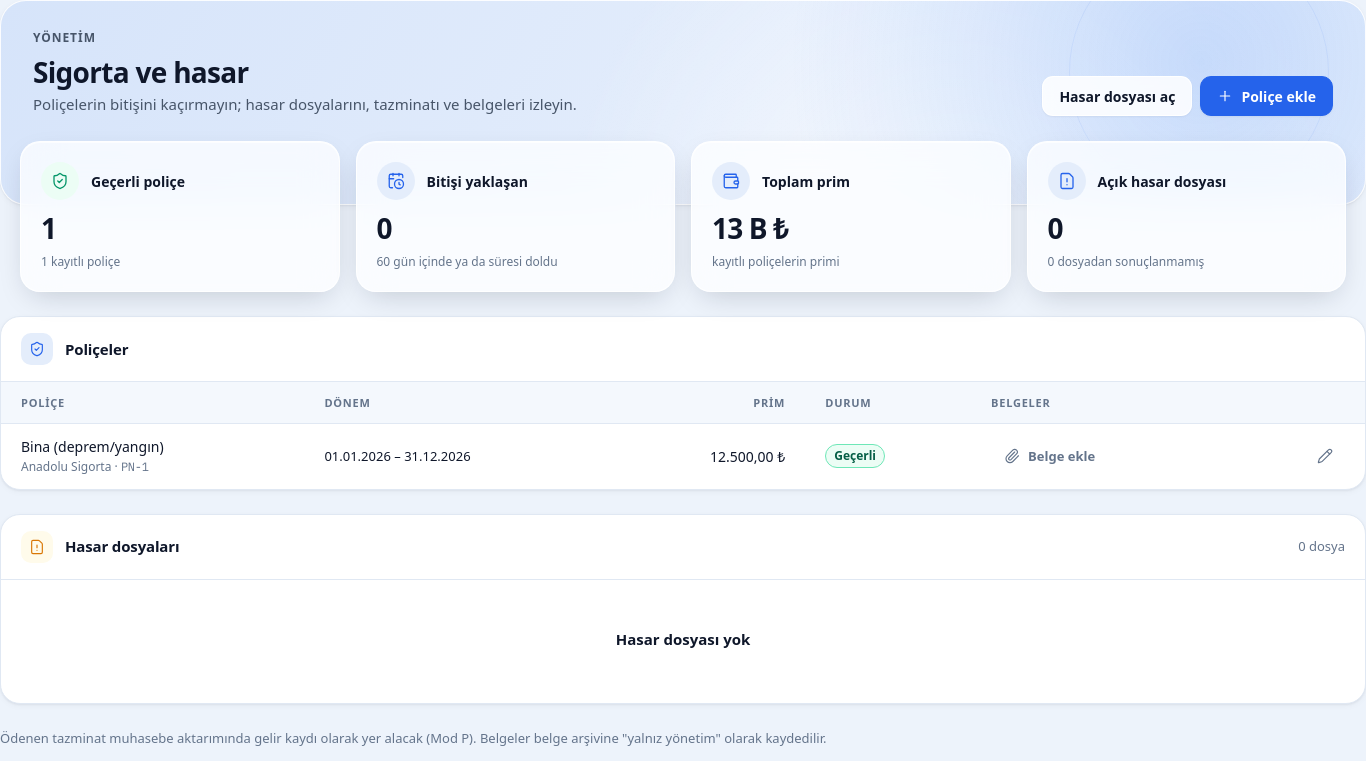
Sigorta: poliçe düzenleme › poliçeyi mevcut değerlerle açar ve PATCH ile kaydeder
The image size is (1366, 761).
Click the button named "poliçesini düzenle".
click(1325, 456)  # box [1305, 440, 1345, 472]
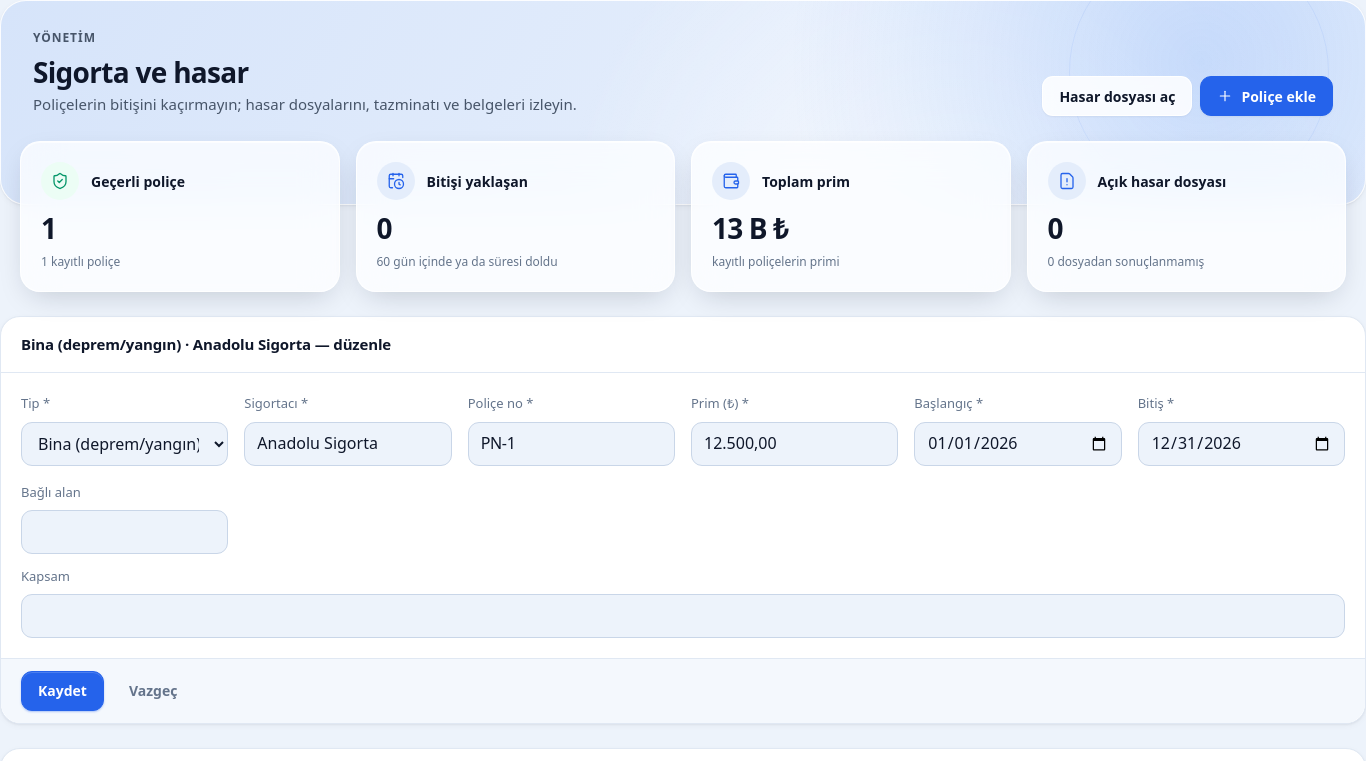
Expected: the field labelled "Sigortacı *" holds "Anadolu Sigorta"
Expected: the field labelled "Prim (₺) *" holds "12.500,00", [691, 422, 898, 466]
Replace the text in the field labelled "Sigortacı *" with "Axa" at point(348, 444), box [244, 422, 452, 466]
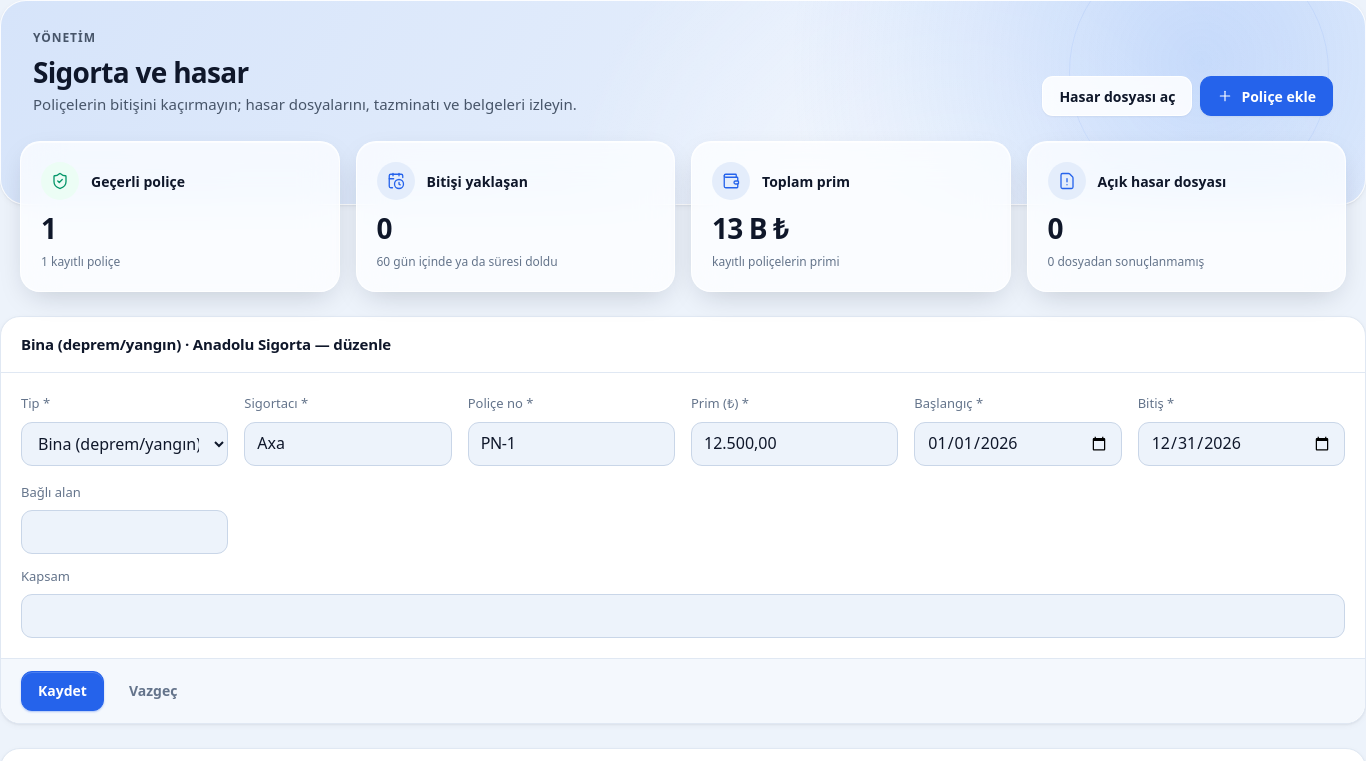
Click the button "Kaydet".
click(62, 691)  # box [21, 671, 104, 711]
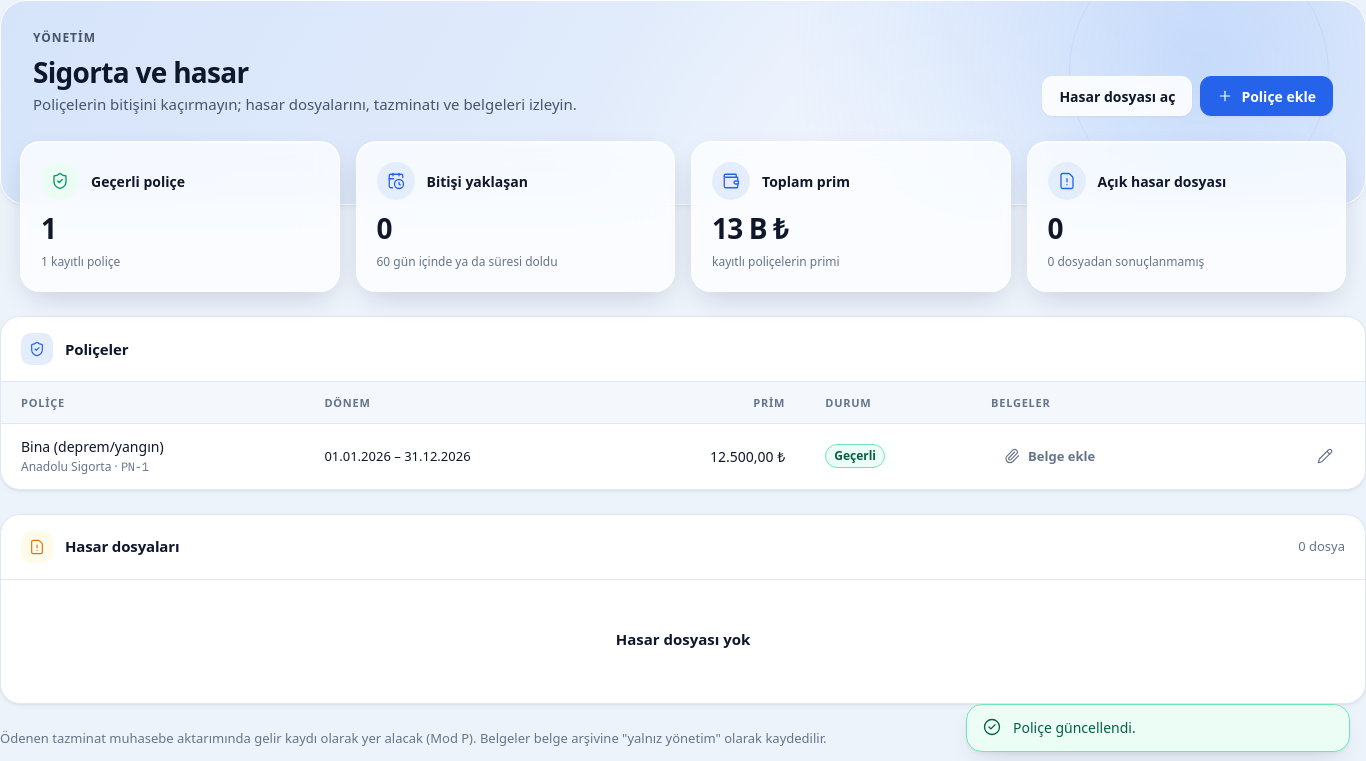
Expected: the text "Poliçe güncellendi." is shown, [1013, 717, 1136, 739]
